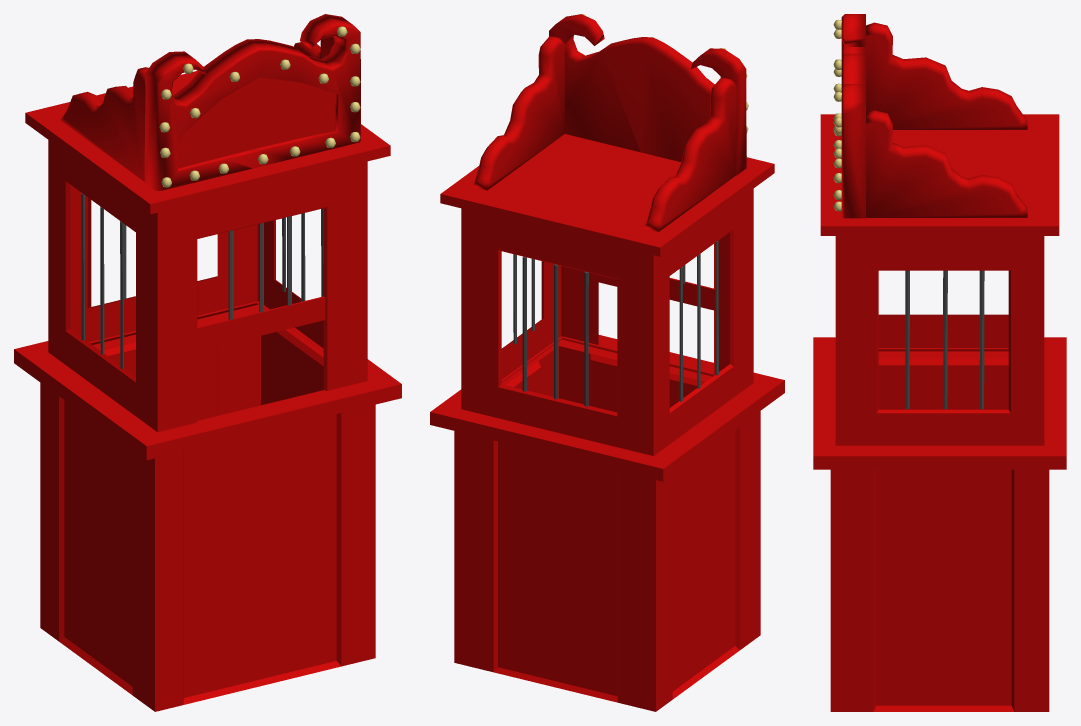
File: Ticket_booth_GEO.fbx
3 views of the same model, side by side, from view 1: azimuth 30°, elevation 25°; view 2: azimuth 150°, elevation 25°; view 3: azimuth 270°, elevation 25° (orthographic). The views are drawn at different scales.
Visible parts, largest first — view 1: ticket_booth_GEO1; view 2: ticket_booth_GEO1; view 3: ticket_booth_GEO1.
Boxes of the visible parts, x1=… form: ticket_booth_GEO1: x1=14, y1=14, x2=401, y2=711; ticket_booth_GEO1: x1=430, y1=14, x2=784, y2=711; ticket_booth_GEO1: x1=813, y1=14, x2=1066, y2=711.
Size of the model in its own units: 172 by 412 by 155.
